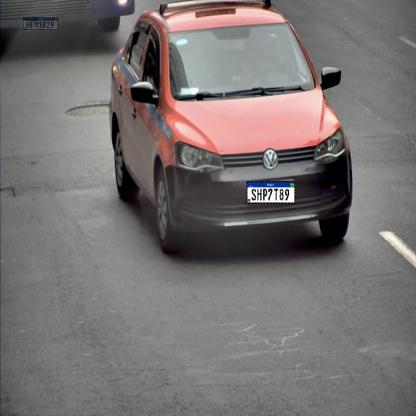PlacaM: (247, 181, 296, 204), (23, 17, 58, 30)
